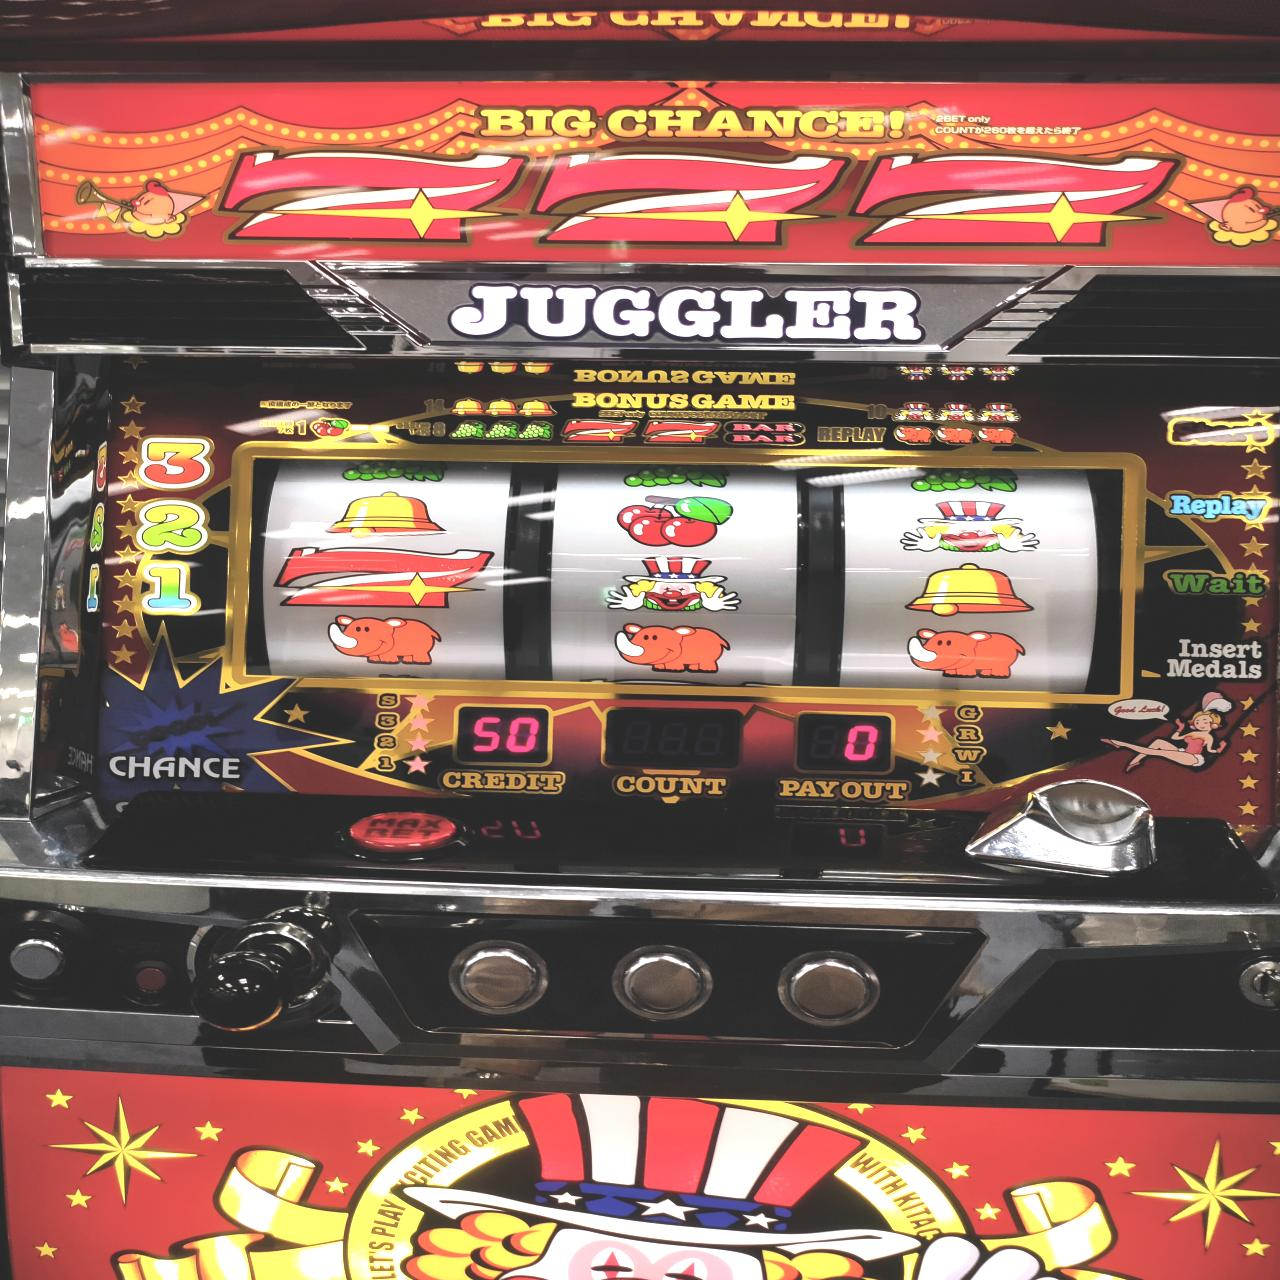7: (275, 546, 496, 615)
8: (612, 618, 733, 672), (908, 628, 1028, 678), (332, 617, 447, 665)
Display: (241, 440, 1132, 697)
bell: (908, 561, 1032, 617), (322, 490, 441, 538)
cherry: (608, 496, 735, 546)
clown: (607, 553, 740, 614), (906, 499, 1043, 556)
